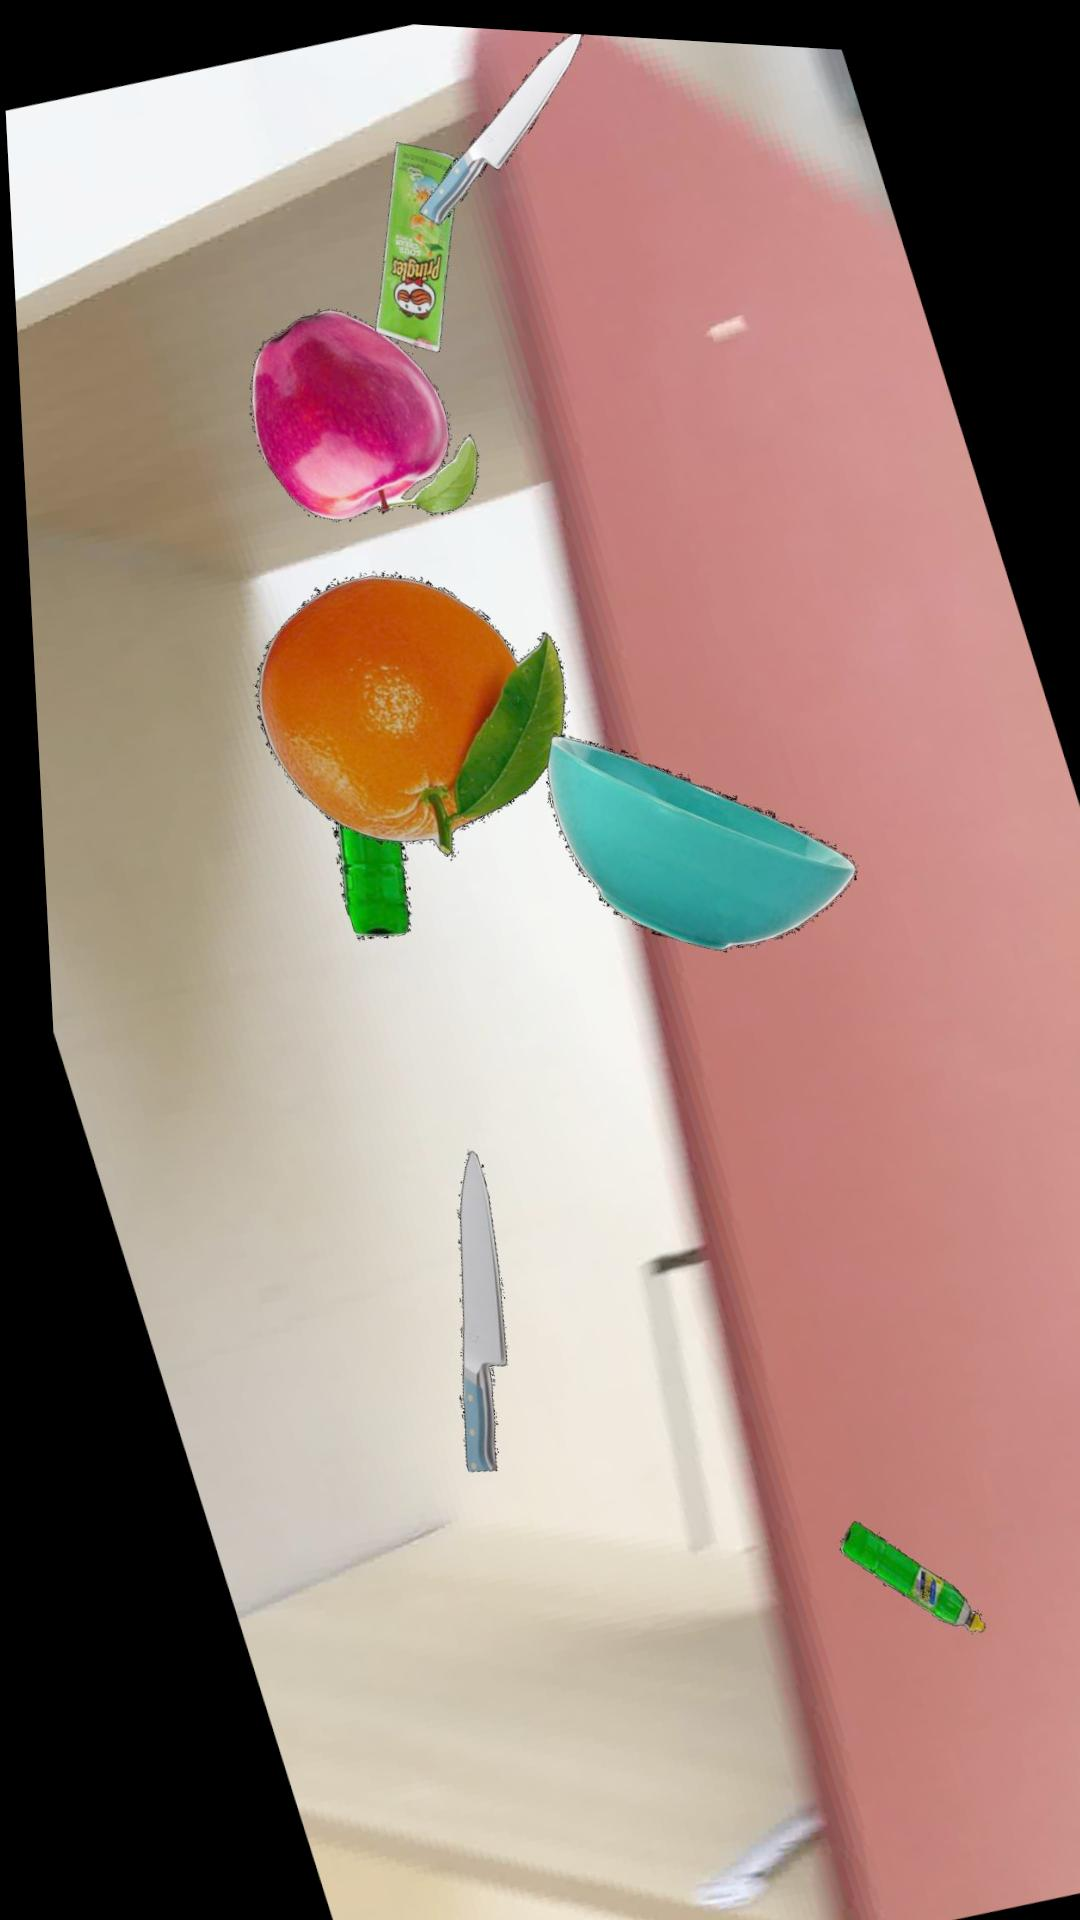apple: (245, 307, 473, 518)
bowl: (537, 729, 845, 944)
cleaner: (822, 1513, 968, 1623), (323, 822, 401, 938)
knife: (417, 26, 583, 222), (443, 1147, 492, 1469)
orange: (247, 570, 558, 853)
pringles: (371, 138, 455, 349)
